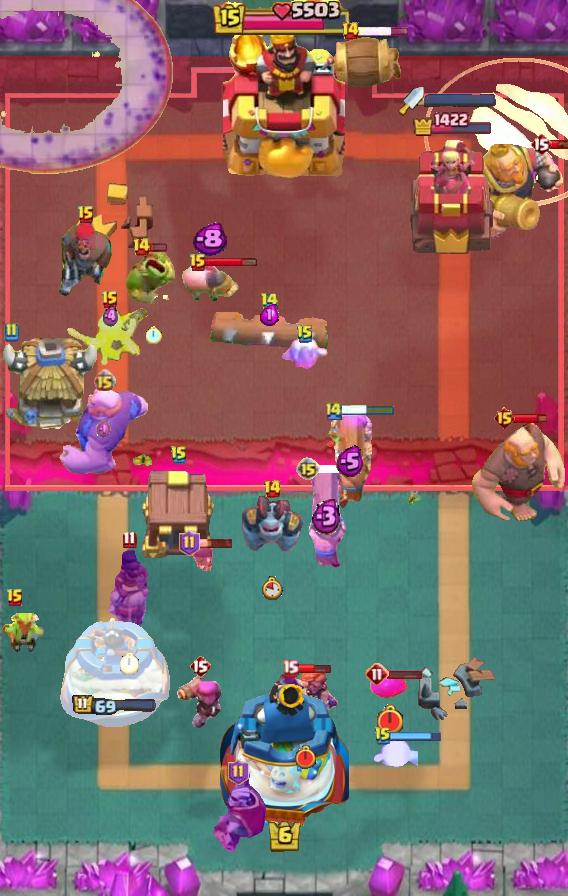balloon: (468, 423, 568, 527), (57, 385, 151, 477)
bar: (409, 138, 497, 256)
bat: (372, 741, 418, 771)
battle-healer: (327, 407, 373, 511), (303, 465, 349, 569)
bomb: (139, 467, 219, 561)
clock: (213, 0, 355, 38)
electro-spirit: (192, 223, 227, 257), (311, 497, 342, 535), (336, 446, 364, 478), (260, 302, 280, 325), (103, 305, 117, 328), (96, 419, 112, 439)
elite-barbarian: (106, 549, 152, 629)
elixir: (375, 703, 405, 736), (294, 745, 317, 770), (261, 576, 282, 600), (120, 653, 139, 675), (146, 326, 162, 344)
elixir-golem-small: (239, 495, 305, 555)
emote: (341, 403, 394, 416), (357, 26, 410, 37), (206, 257, 259, 268), (390, 731, 442, 742), (513, 412, 548, 425), (198, 537, 235, 549), (318, 463, 354, 475), (387, 668, 423, 680), (296, 663, 332, 674), (148, 243, 168, 254), (550, 138, 568, 149)
executioner: (179, 259, 239, 305)
flying-machine: (125, 250, 183, 304)
giant-skeleton: (456, 140, 568, 244)
goblin: (189, 540, 215, 576)
ice-wizard: (424, 57, 568, 206)
king-tower: (219, 678, 349, 826), (223, 27, 345, 181)
king-tower-bar: (424, 93, 496, 107)
miner: (370, 671, 410, 699)
minion: (207, 312, 331, 352)
mirror: (280, 335, 330, 373)
phoenix-small: (58, 217, 114, 299)
poison: (66, 303, 154, 377)
prince: (0, 338, 102, 434)
queen-tower: (54, 614, 173, 730)
rocket: (0, 0, 172, 174)
selected: (412, 111, 494, 137), (71, 694, 156, 717)
skeleton-king: (208, 774, 268, 860)
tesla-evolution: (271, 665, 339, 725)
text: (296, 457, 320, 481), (365, 662, 389, 686), (179, 530, 201, 556), (93, 368, 116, 392), (493, 406, 516, 430), (227, 759, 248, 785), (530, 132, 552, 156), (189, 654, 211, 678), (324, 399, 344, 420), (132, 237, 152, 257), (340, 21, 359, 41), (260, 293, 280, 312), (262, 479, 281, 499), (77, 205, 95, 225), (189, 253, 207, 273), (101, 290, 119, 310), (296, 324, 314, 344), (170, 445, 188, 465), (6, 588, 24, 608), (374, 726, 392, 746), (281, 659, 298, 678), (3, 322, 19, 342), (122, 531, 137, 550)
the-log: (324, 34, 404, 94)
tombstone: (177, 674, 223, 730)
zap: (0, 613, 46, 655)
